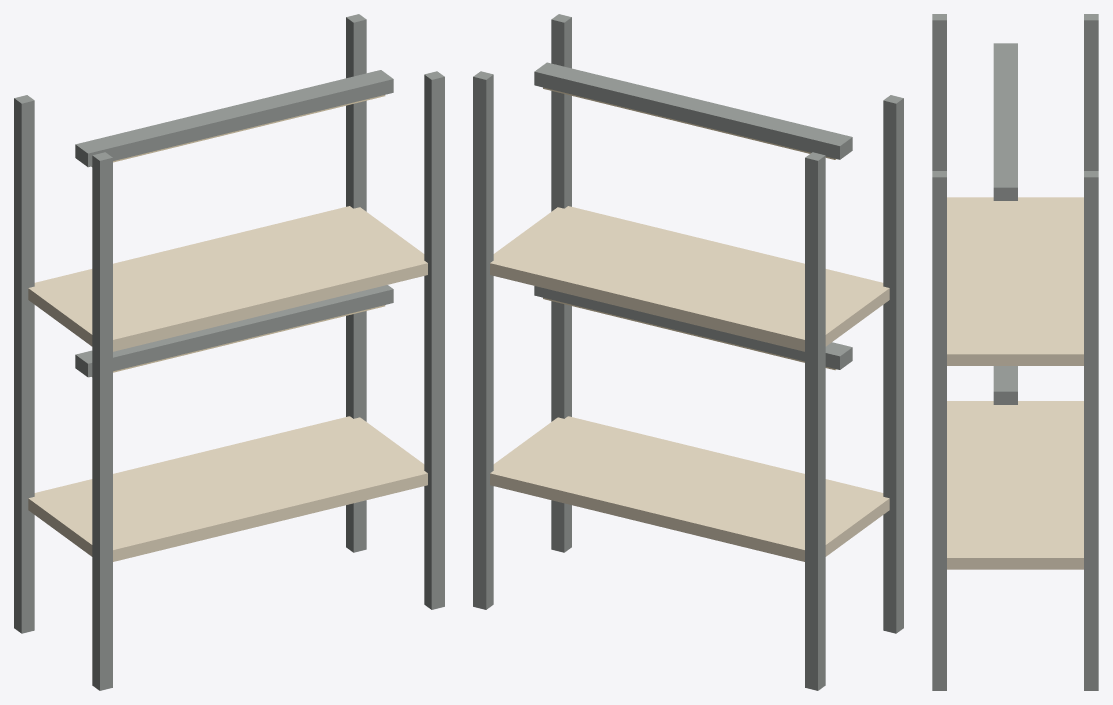
The model's file is shelf_growrack_2tier.glb.
3 views of the same model, side by side, from view 1: azimuth 30°, elevation 25°; view 2: azimuth 150°, elevation 25°; view 3: azimuth 270°, elevation 25° (orthographic). The views are drawn at different scales.
Parts seen in each view (by area): view 1: p4, p5, p1, p3, p0, p8, p2, p6; view 2: p4, p5, p0, p2, p1, p8, p3, p6; view 3: p4, p5, p2, p3, p8, p0, p1, p6.
Part boxes in pixels (bbox=[...]): p4: bbox=[28, 416, 427, 561]; p5: bbox=[28, 206, 427, 351]; p1: bbox=[92, 152, 112, 690]; p3: bbox=[424, 71, 444, 609]; p0: bbox=[14, 95, 34, 633]; p8: bbox=[75, 70, 393, 167]; p2: bbox=[346, 14, 366, 552]; p6: bbox=[75, 285, 393, 377]; p4: bbox=[490, 416, 889, 561]; p5: bbox=[490, 206, 889, 351]; p0: bbox=[805, 152, 825, 690]; p2: bbox=[473, 71, 493, 609]; p1: bbox=[883, 95, 903, 633]; p8: bbox=[534, 62, 852, 159]; p3: bbox=[551, 14, 571, 552]; p6: bbox=[534, 286, 852, 369]; p4: bbox=[947, 401, 1083, 569]; p5: bbox=[947, 197, 1083, 365]; p2: bbox=[1084, 171, 1098, 690]; p3: bbox=[932, 171, 946, 690]; p8: bbox=[993, 43, 1017, 200]; p0: bbox=[1084, 14, 1098, 170]; p1: bbox=[932, 14, 946, 170]; p6: bbox=[993, 366, 1017, 404].
Size of the model in its own units: 0.79 by 1.16 by 0.34.
